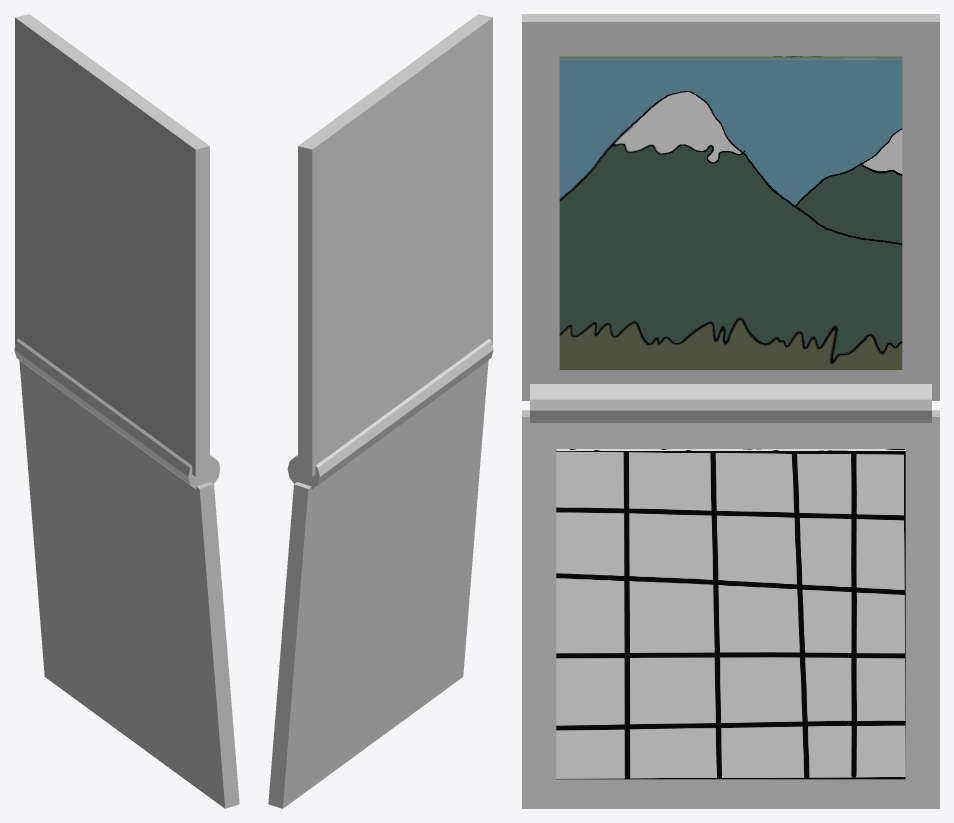
File: Calendar.fbx
The picture shows the model from 3 angles, left to right: view 1: azimuth 30°, elevation 25°; view 2: azimuth 150°, elevation 25°; view 3: azimuth 270°, elevation 25°; orthographic projection. The views are drawn at different scales.
Visible parts, largest first — view 1: Cube.039, Cylinder.013; view 2: Cube.039, Cylinder.013; view 3: Cube.042, Cube.041, Cube.039, Cylinder.013.
Part boxes in pixels (x1,y1,x2,y2): Cube.039: (15, 14, 239, 808); Cylinder.013: (14, 338, 220, 489); Cube.039: (268, 14, 492, 808); Cylinder.013: (287, 338, 493, 489); Cube.042: (556, 449, 905, 779); Cube.041: (559, 56, 902, 369); Cube.039: (522, 14, 939, 808); Cylinder.013: (530, 384, 931, 422).
Bounding box in the file's own units: 805 × 9928 × 4875.
Materials: 2 (2 with a texture image).
